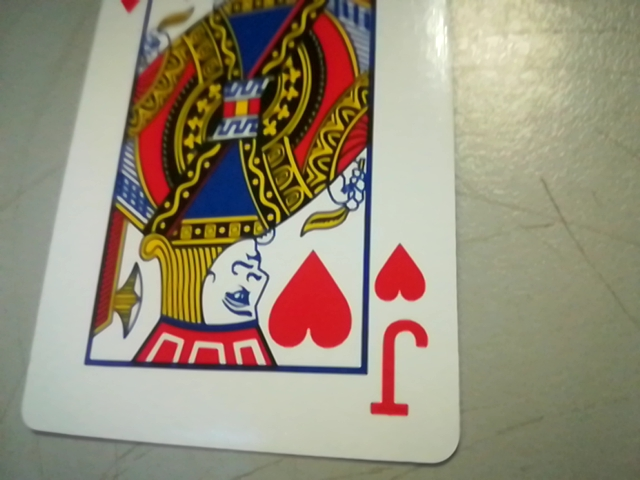hx j: (360, 240, 446, 434)
